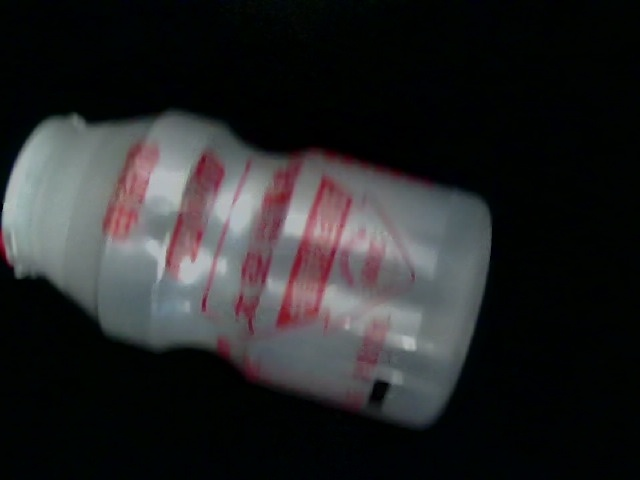CYLJ: (179, 1, 547, 80)
